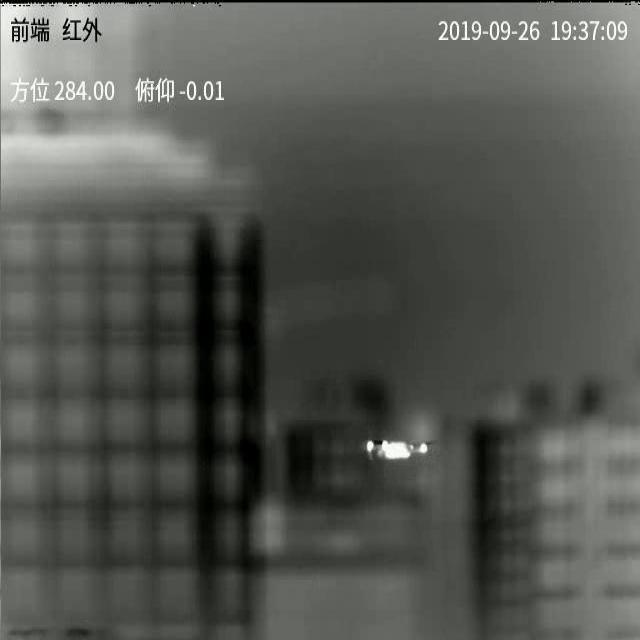drone: (365, 439, 430, 460)
